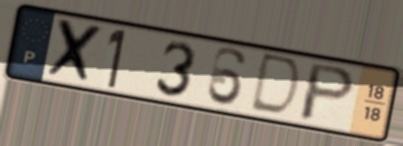1: (105, 27, 127, 91)
3: (154, 40, 198, 99)
6: (204, 46, 249, 110)
D: (246, 50, 304, 120)
P: (295, 61, 359, 124)
X: (41, 16, 107, 88)
